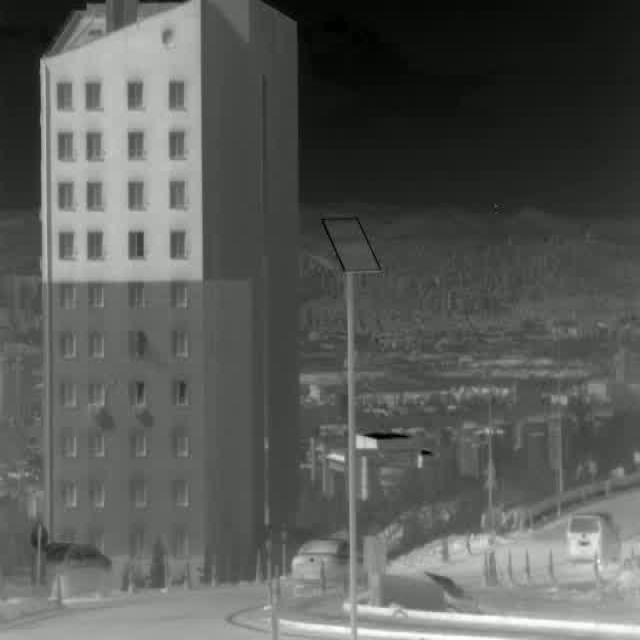Car: (290, 535, 368, 593), (567, 511, 620, 564), (44, 542, 114, 581)
